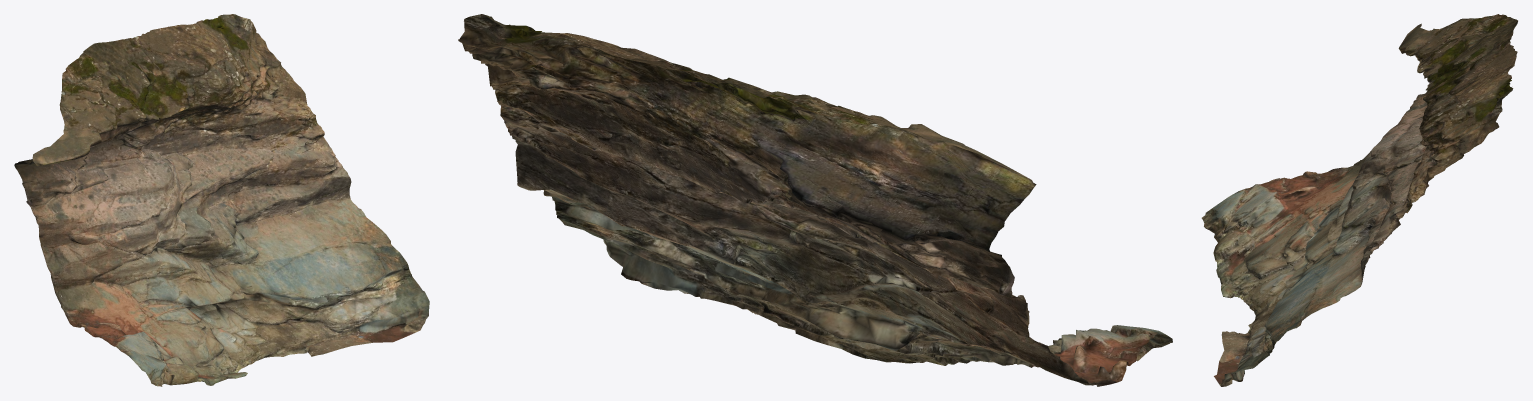
File: rock_face_01.glb
3 renders of one model, left to right at view 1: azimuth 30°, elevation 25°; view 2: azimuth 150°, elevation 25°; view 3: azimuth 270°, elevation 25°, orthographic. The views are drawn at different scales.
Parts seen in each view (by area): view 1: rock_face_01; view 2: rock_face_01; view 3: rock_face_01.
Boxes of the visible parts, left/top/right/bottom form: rock_face_01: left=14, top=14, right=429, bottom=386; rock_face_01: left=458, top=14, right=1172, bottom=386; rock_face_01: left=1201, top=14, right=1517, bottom=386.
Bounding box in the file's own units: 4.95 × 3.56 × 3.83.
Materials: 1 (1 with a texture image).
